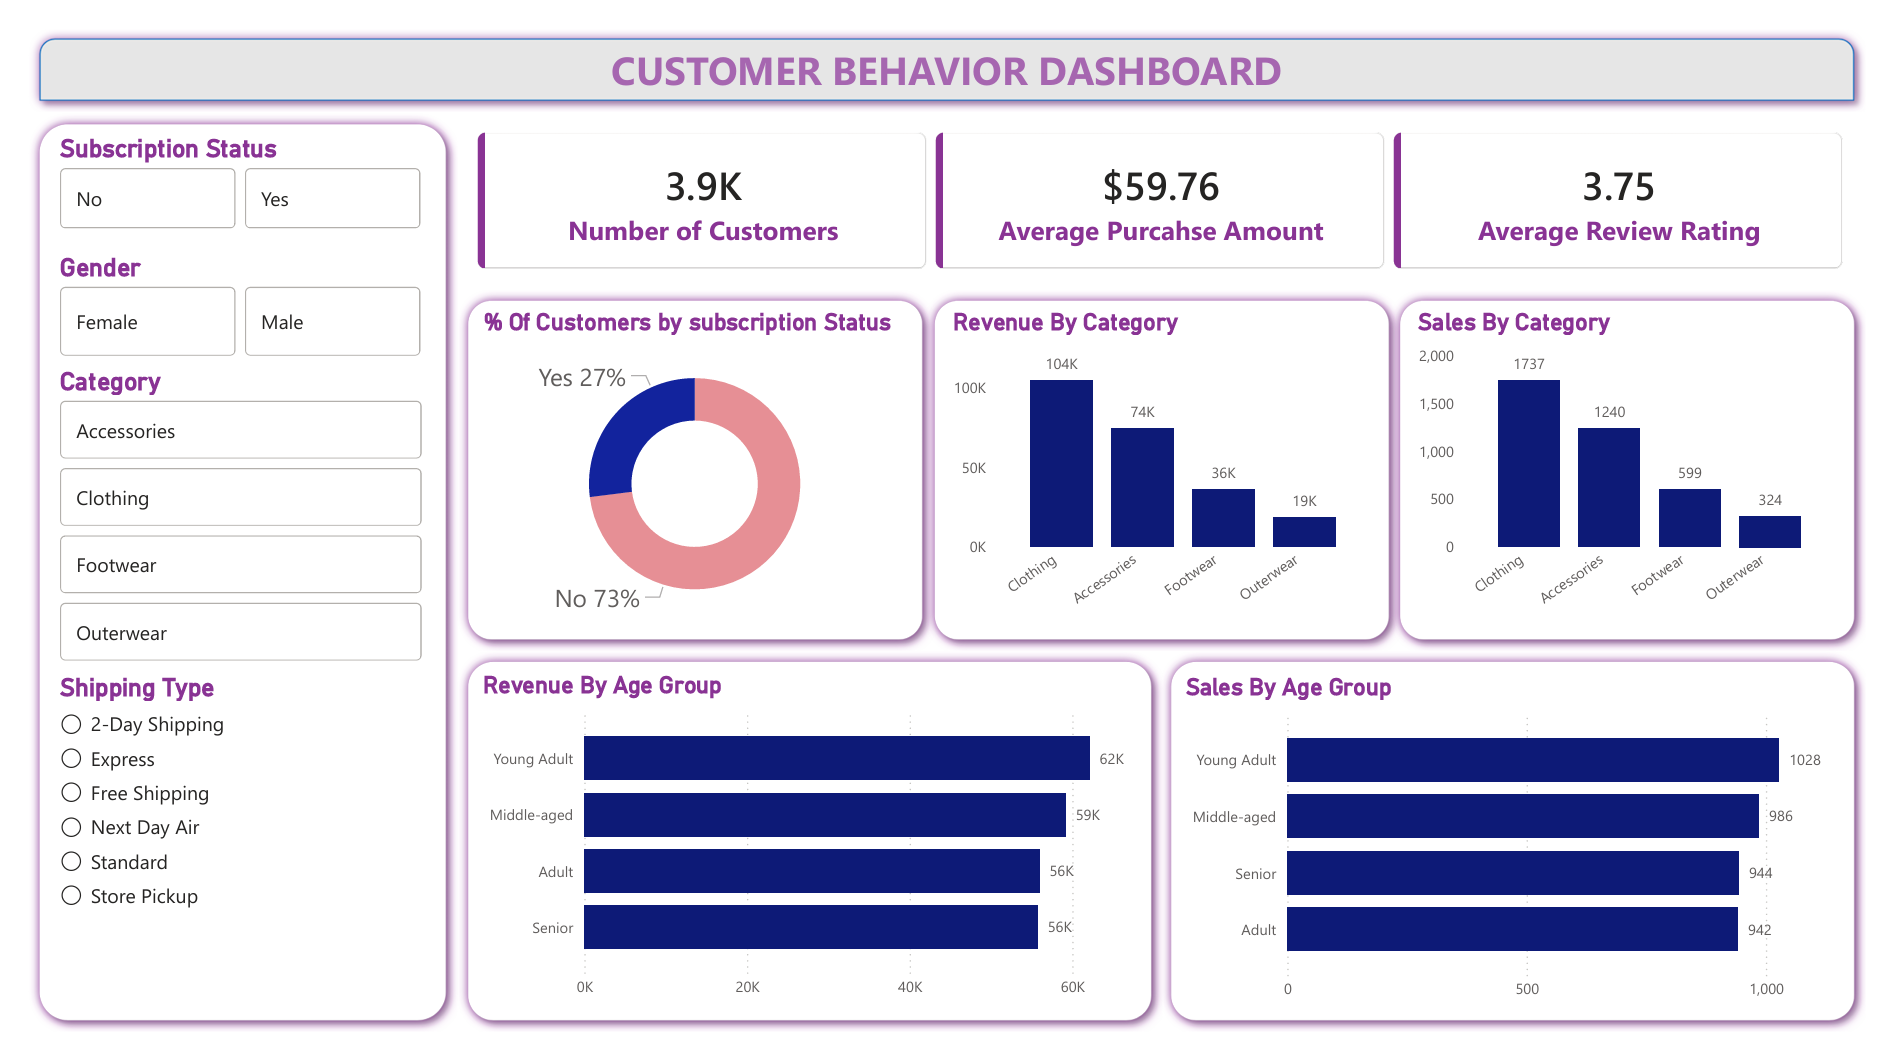

The dashboard page shown, as its layout file describes it:
{"tool":"powerbi","page":{"name":"Page 1","canvas":[1500,820],"ordinal":0},"visuals":[{"type":"cardVisual","fields":{"Data":["Public Customer.Number of Customers","Public Customer.Average Purcahse Amount","Public Customer.Average Review Rating"]},"box":[350,68.6,1150,145.7],"z":0},{"type":"shape","box":[0,0,1500,68.6],"z":1000},{"type":"textbox","box":[35.7,7.1,1428.6,54.3],"z":2000},{"type":"shape","box":[350,214.3,388.6,294.3],"z":3000},{"type":"donutChart","title":"% Of Customers by subscription Status","fields":{"Category":["Public Customer.subscription_status"],"Y":["CountNonNull(Public Customer.customer_id)"]},"box":[367.1,228.6,354.3,265.7],"z":4000},{"type":"shape","box":[731.4,214.3,388.6,294.3],"z":5000},{"type":"shape","box":[1111.4,214.3,388.6,294.3],"z":6000},{"type":"clusteredColumnChart","title":"Revenue By Category","fields":{"Y":["Sum(Public Customer.purchase_amount)"],"Category":["Public Customer.category"]},"box":[750,228.6,351.4,265.7],"z":7000},{"type":"clusteredColumnChart","title":"Sales By Category","fields":{"Y":["CountNonNull(Public Customer.customer_id)"],"Category":["Public Customer.category"]},"box":[1130,228.6,351.4,265.7],"z":8000},{"type":"shape","box":[0,70,350,750],"z":9000},{"type":"advancedSlicerVisual","fields":{"Values":["Public Customer.subscription_status"]},"box":[21.4,87.1,305.7,82.9],"z":10000},{"type":"advancedSlicerVisual","fields":{"Values":["Public Customer.gender"]},"box":[21.4,184.3,305.7,90],"z":11000},{"type":"advancedSlicerVisual","fields":{"Values":["Public Customer.category"]},"box":[21.4,277.1,305.7,248.6],"z":12000},{"type":"listSlicer","fields":{"Values":["Public Customer.shipping_type"]},"box":[21.4,527.1,305.7,260],"z":13000},{"type":"shape","box":[350,508.6,575.7,311.4],"z":15000},{"type":"barChart","title":"Revenue By Age Group","fields":{"Y":["Sum(Public Customer.purchase_amount)"],"Category":["Public Customer.age_group"]},"box":[365.7,525.7,545.7,275.7],"z":15001},{"type":"shape","box":[924.3,508.6,575.7,311.4],"z":15002},{"type":"barChart","title":"Sales By Age Group","fields":{"Category":["Public Customer.age_group"],"Y":["CountNonNull(Public Customer.customer_id)"]},"box":[940,527.1,545.7,275.7],"z":15003}]}

Visuals, with their boxes in screenshot pixels (x1, y1, x2, y2), scaled from the page's 1500x820 canvas onto the 1888x1053 screenshot:
cardVisual - Public Customer.Number of Customers x Public Customer.Average Purcahse Amount: 441 88 1887 275
shape: 0 0 1887 88
textbox: 45 9 1843 79
shape: 441 275 930 653
"% Of Customers by subscription Status" donutChart: 462 294 908 635
shape: 921 275 1410 653
shape: 1399 275 1887 653
"Revenue By Category" clusteredColumnChart: 944 294 1386 635
"Sales By Category" clusteredColumnChart: 1422 294 1865 635
shape: 0 90 441 1052
advancedSlicerVisual - Public Customer.subscription_status: 27 112 412 218
advancedSlicerVisual - Public Customer.gender: 27 237 412 352
advancedSlicerVisual - Public Customer.category: 27 356 412 675
listSlicer - Public Customer.shipping_type: 27 677 412 1011
shape: 441 653 1165 1052
"Revenue By Age Group" barChart: 460 675 1147 1029
shape: 1163 653 1887 1052
"Sales By Age Group" barChart: 1183 677 1870 1031
